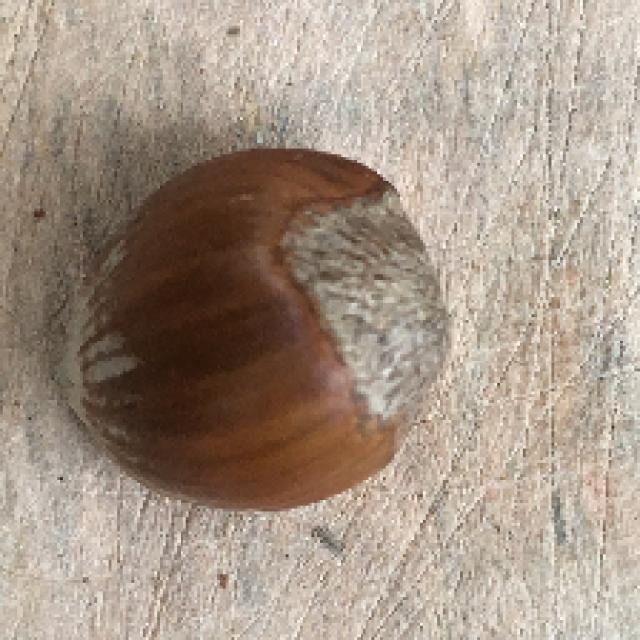qualityHazelnut: (57, 146, 451, 512)
